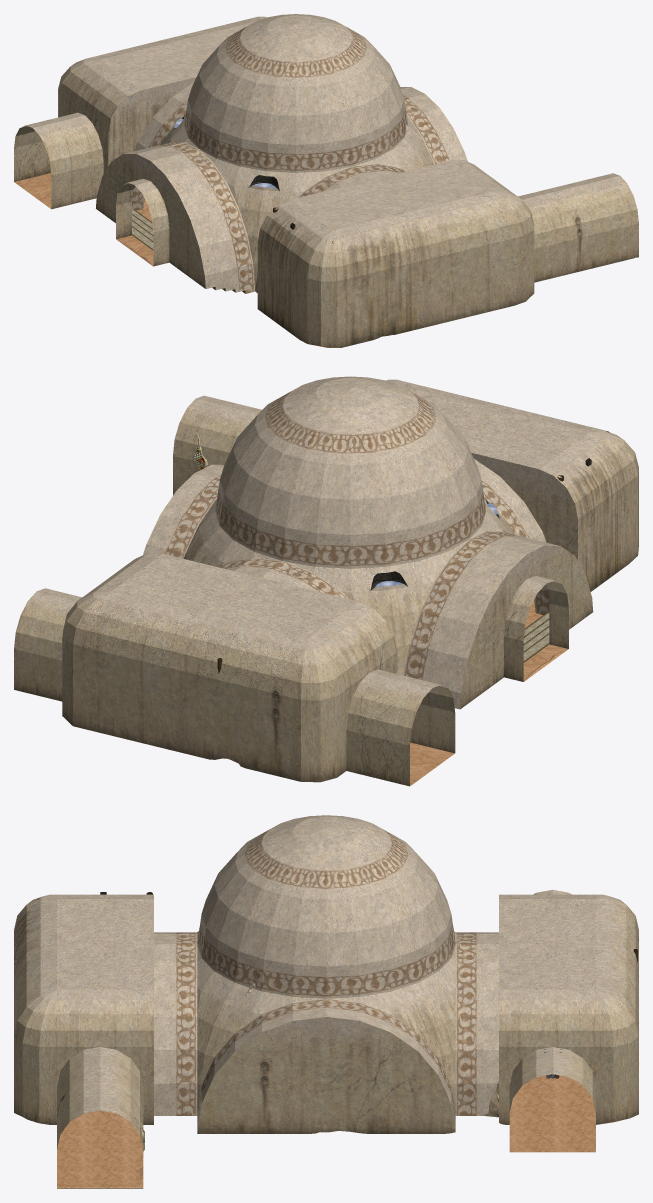
File: thm_tato_jabbas_palace_r4_office_mesh_r4.fbx
The picture shows the model from 3 angles, top to bottom: view 1: azimuth 30°, elevation 25°; view 2: azimuth 150°, elevation 25°; view 3: azimuth 270°, elevation 25°; orthographic projection. The views are drawn at different scales.
Parts seen in each view (by area): view 1: mesh_node; view 2: mesh_node; view 3: mesh_node.
Boxes of the visible parts, x1,y1,x2,y2 form: mesh_node: (14, 14, 638, 347); mesh_node: (14, 376, 638, 786); mesh_node: (14, 815, 638, 1188).
Bounding box in the file's own units: 24.25 × 12 × 29.
